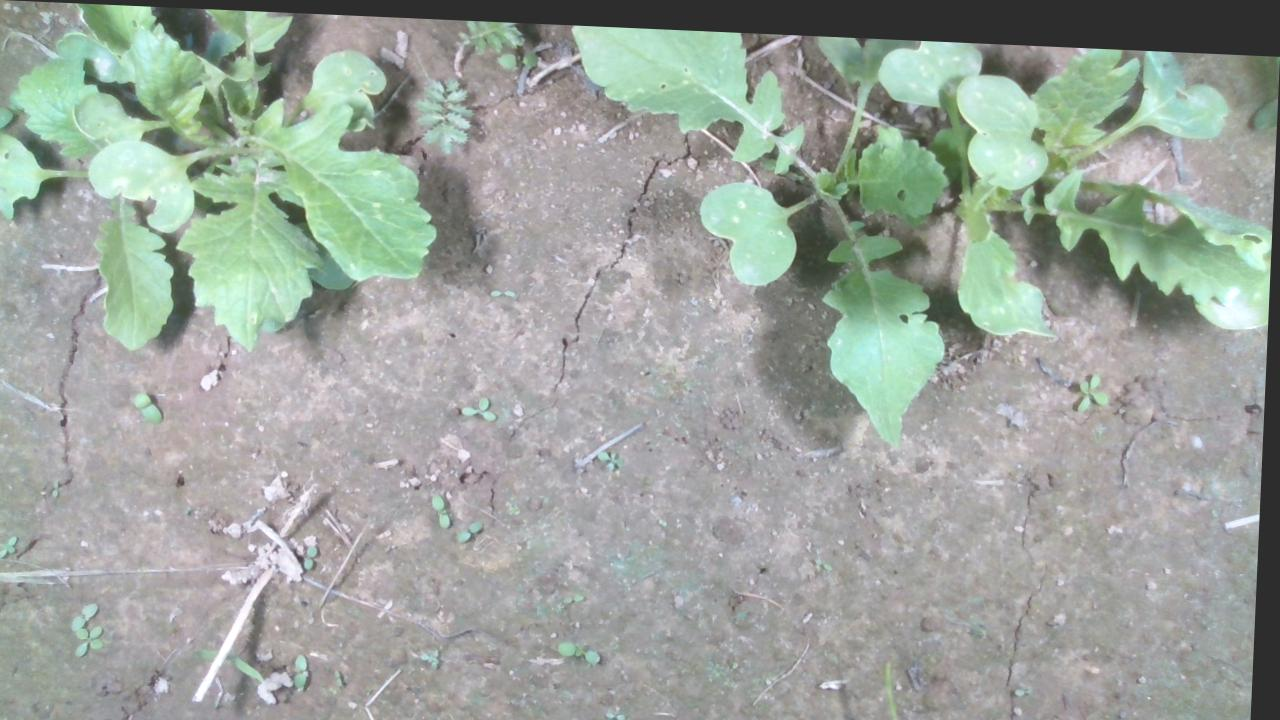weed: (1079, 358, 1113, 403), (134, 389, 167, 424), (562, 633, 608, 658), (462, 390, 501, 417), (432, 489, 455, 524), (598, 440, 628, 466), (461, 514, 488, 538), (297, 649, 313, 687), (1, 533, 22, 558), (306, 540, 322, 568), (564, 585, 590, 598), (1017, 674, 1039, 685), (338, 665, 350, 684), (609, 704, 631, 714), (53, 477, 63, 498)
